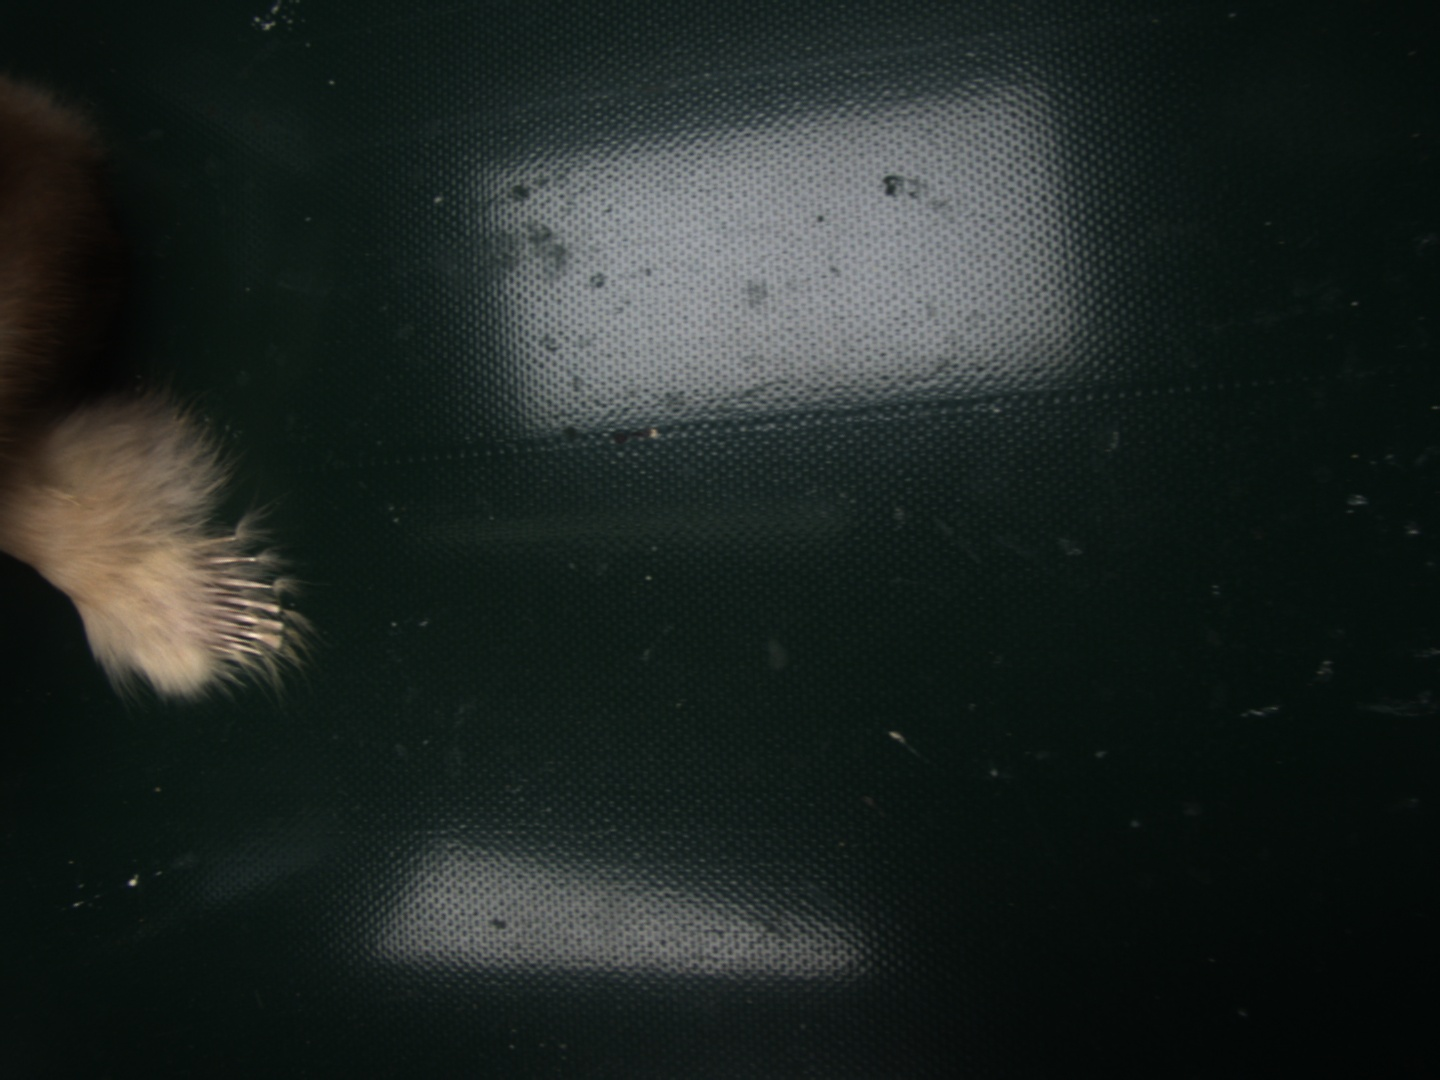female: (178, 532, 287, 667)
